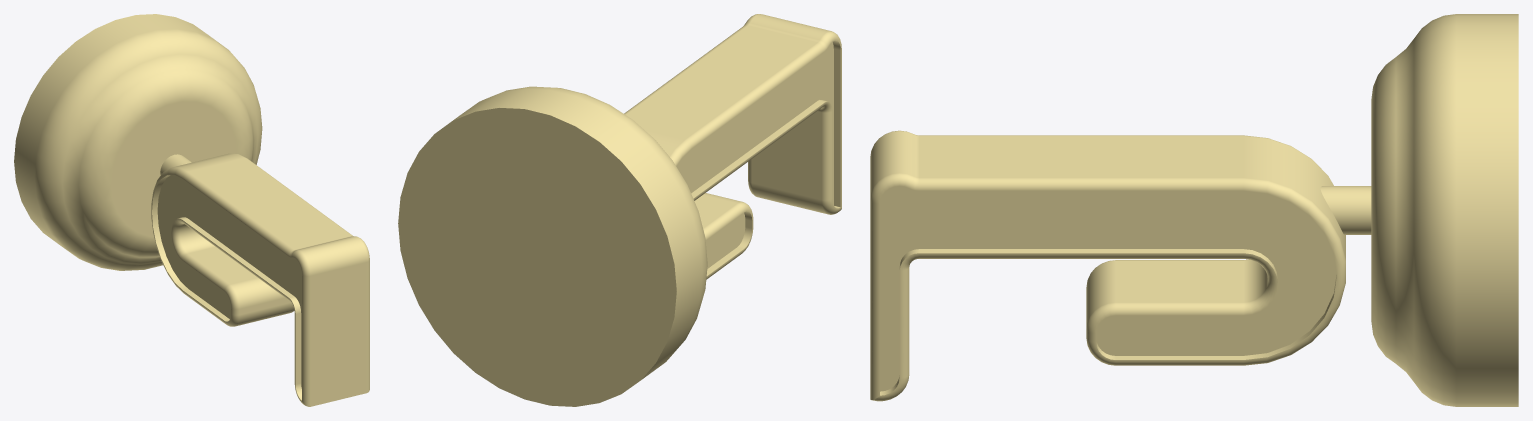
3 renders of one model, left to right at view 1: azimuth 30°, elevation 25°; view 2: azimuth 150°, elevation 25°; view 3: azimuth 270°, elevation 25°, orthographic. The views are drawn at different scales.
Visible parts, largest first — view 1: Body1; view 2: Body1; view 3: Body1.
Part boxes in pixels (left/top/right/bottom): Body1: left=14, top=14, right=369, bottom=406; Body1: left=398, top=14, right=841, bottom=406; Body1: left=870, top=14, right=1518, bottom=406.
Size of the model in its own units: 4 by 3.98 by 6.6.
